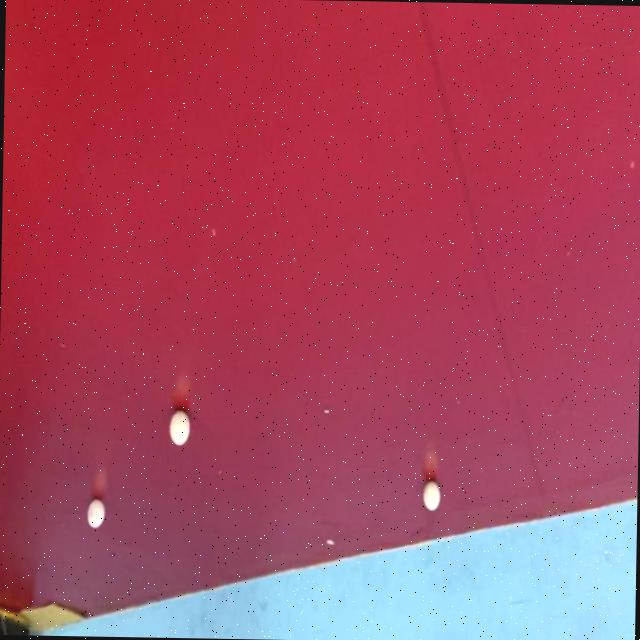ping-pong-ball: (161, 402, 194, 465), (414, 476, 447, 524), (81, 491, 108, 536)
